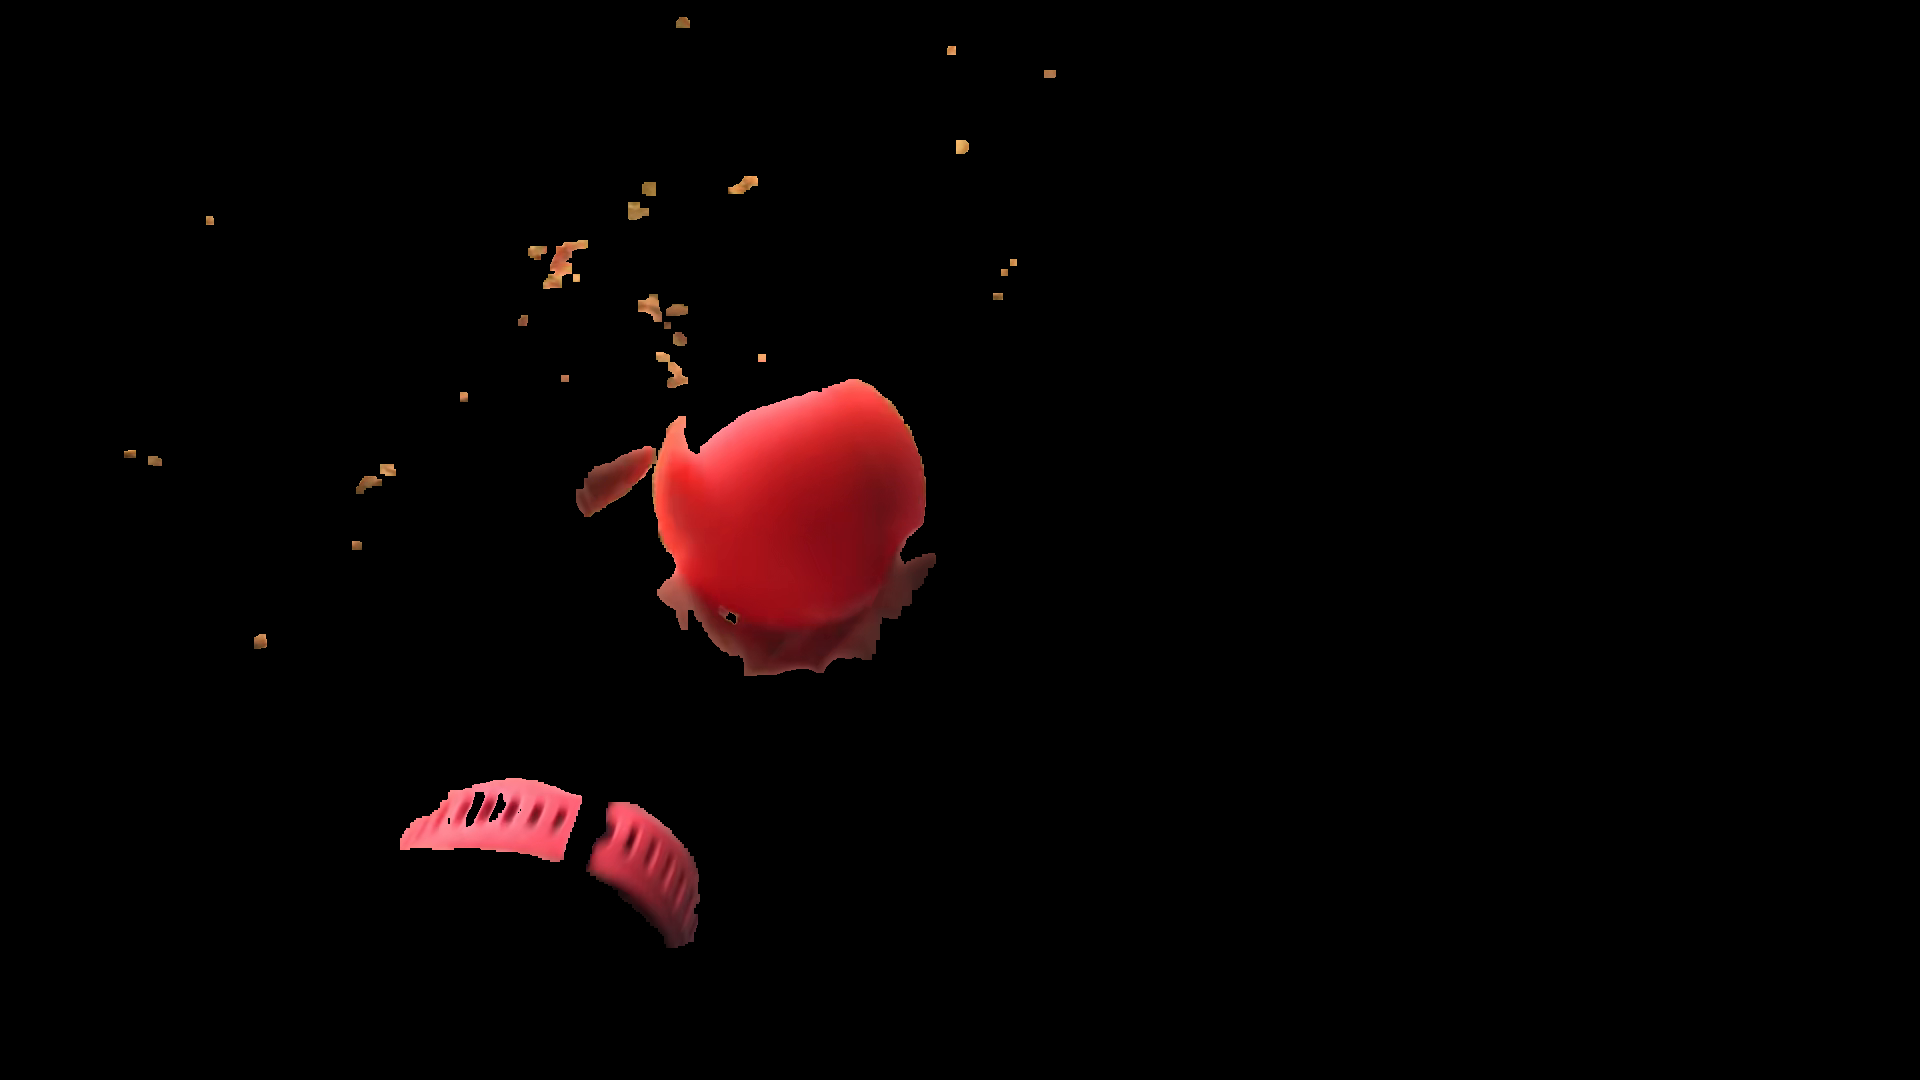Ball: (653, 355, 931, 636)
